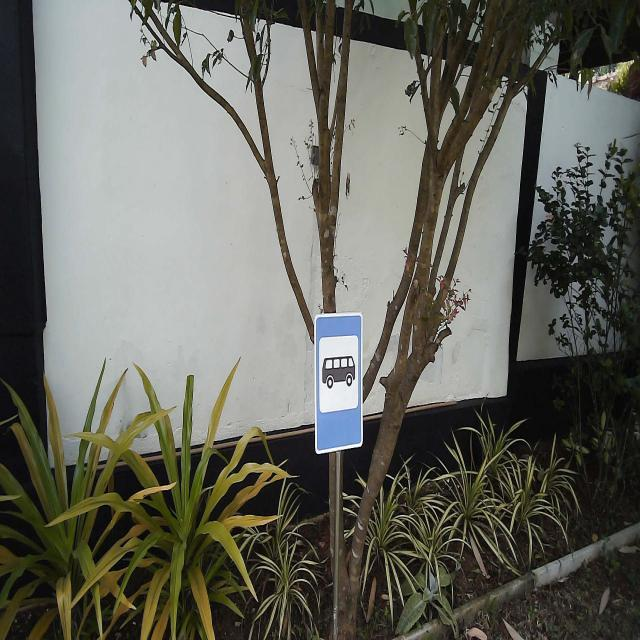bus_stop: (314, 312, 364, 458)
